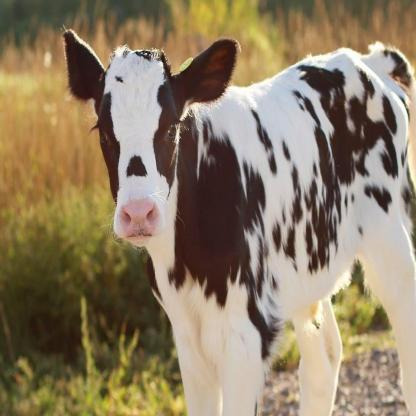cow: (63, 28, 415, 416)
